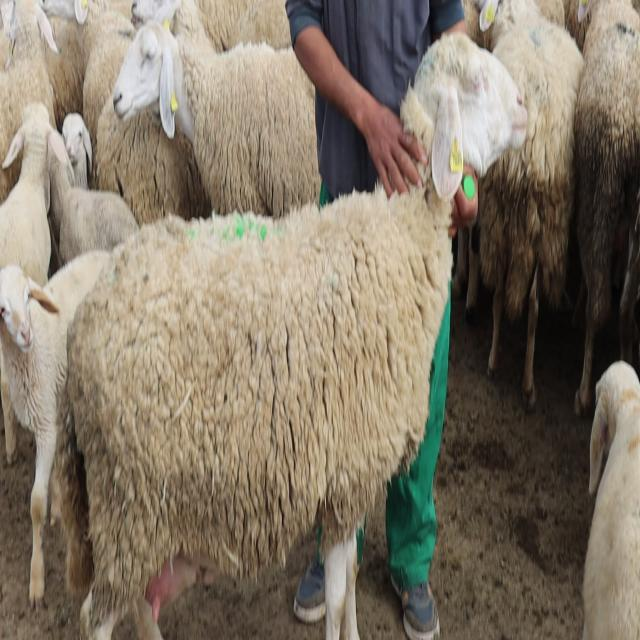Score_2: (54, 34, 528, 639)
